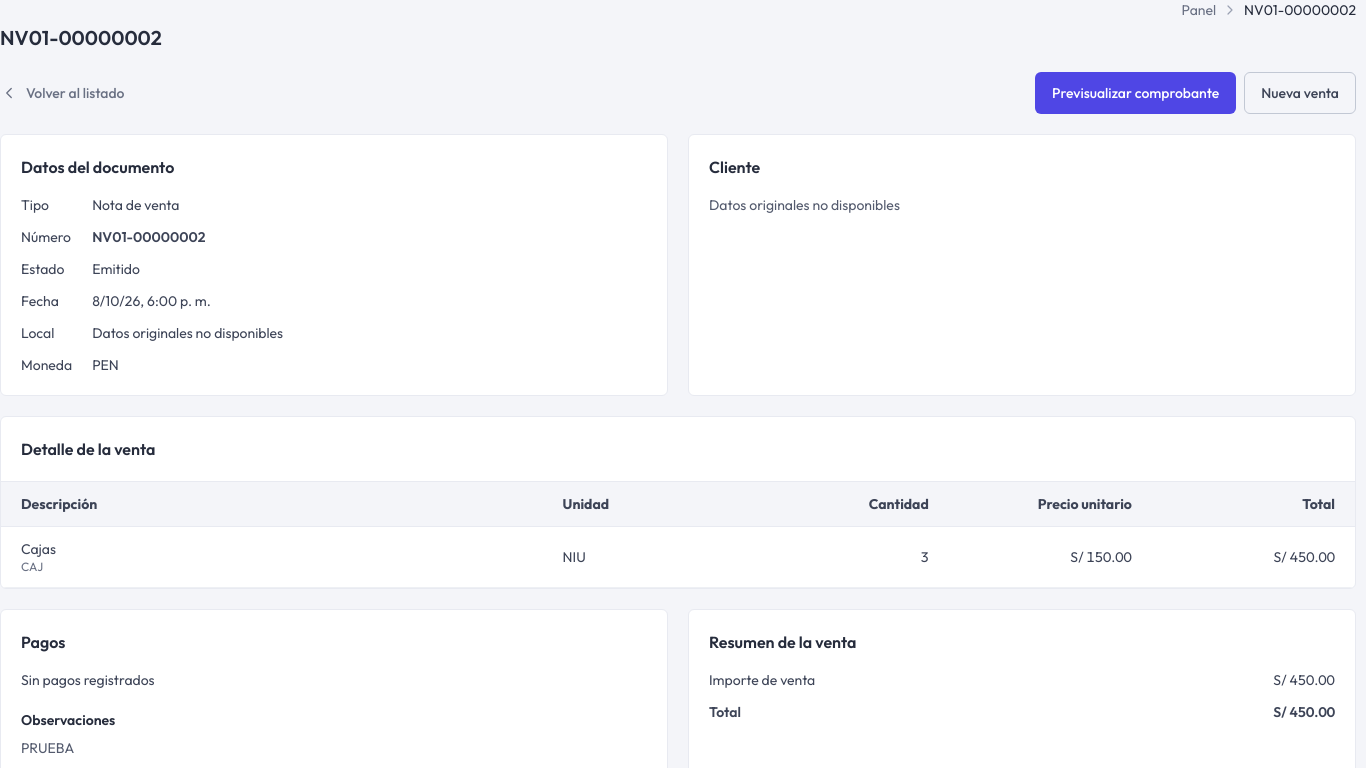
Test: Detalle del documento · presentación interna y fiscal › abre como registro y permite previsualizar y volver sin modificar el documento
Click the button "Previsualizar comprobante".
click(1136, 93)  # box left=1035, top=72, right=1236, bottom=114
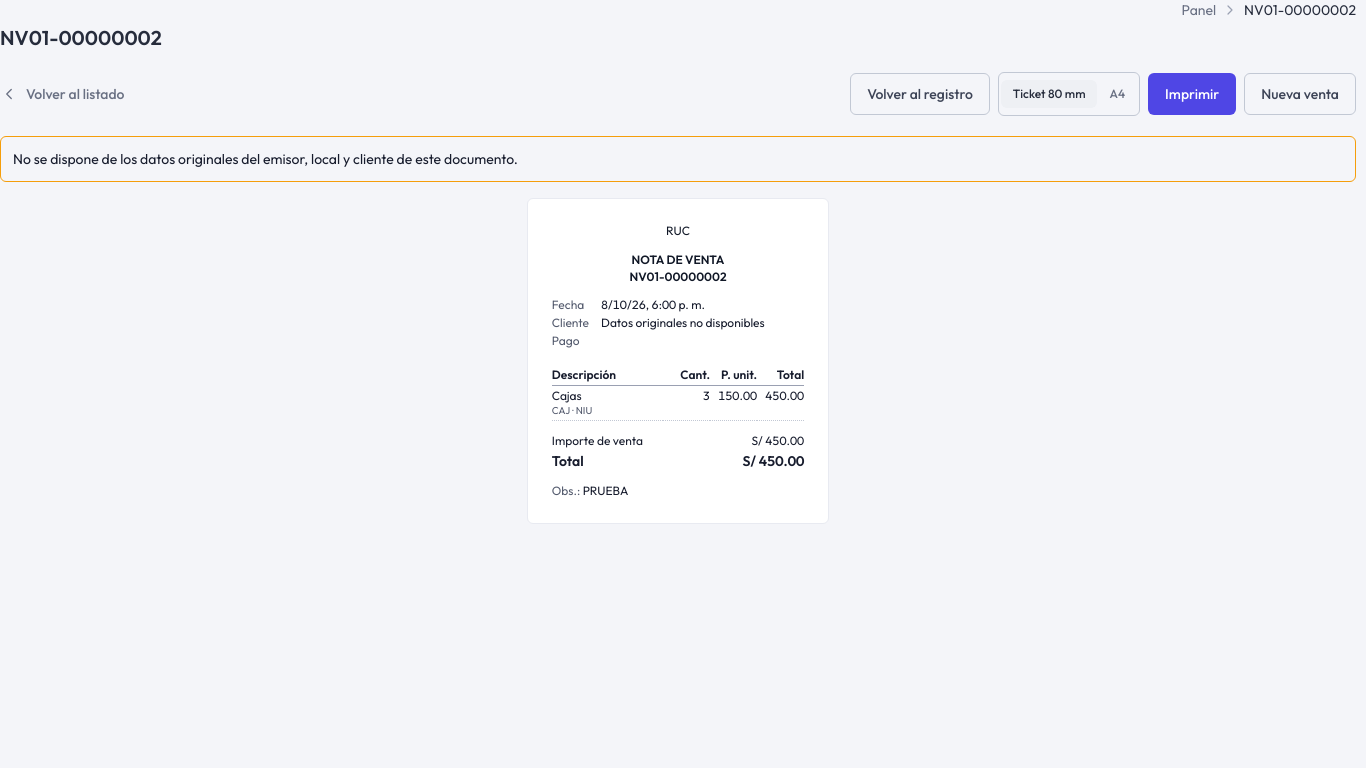
Expected: the element named "Formato de impresión" is shown, left=998, top=72, right=1140, bottom=116
Expected: the button "A4" is shown
Click the button "A4".
click(1117, 94)  # box left=1098, top=80, right=1137, bottom=108
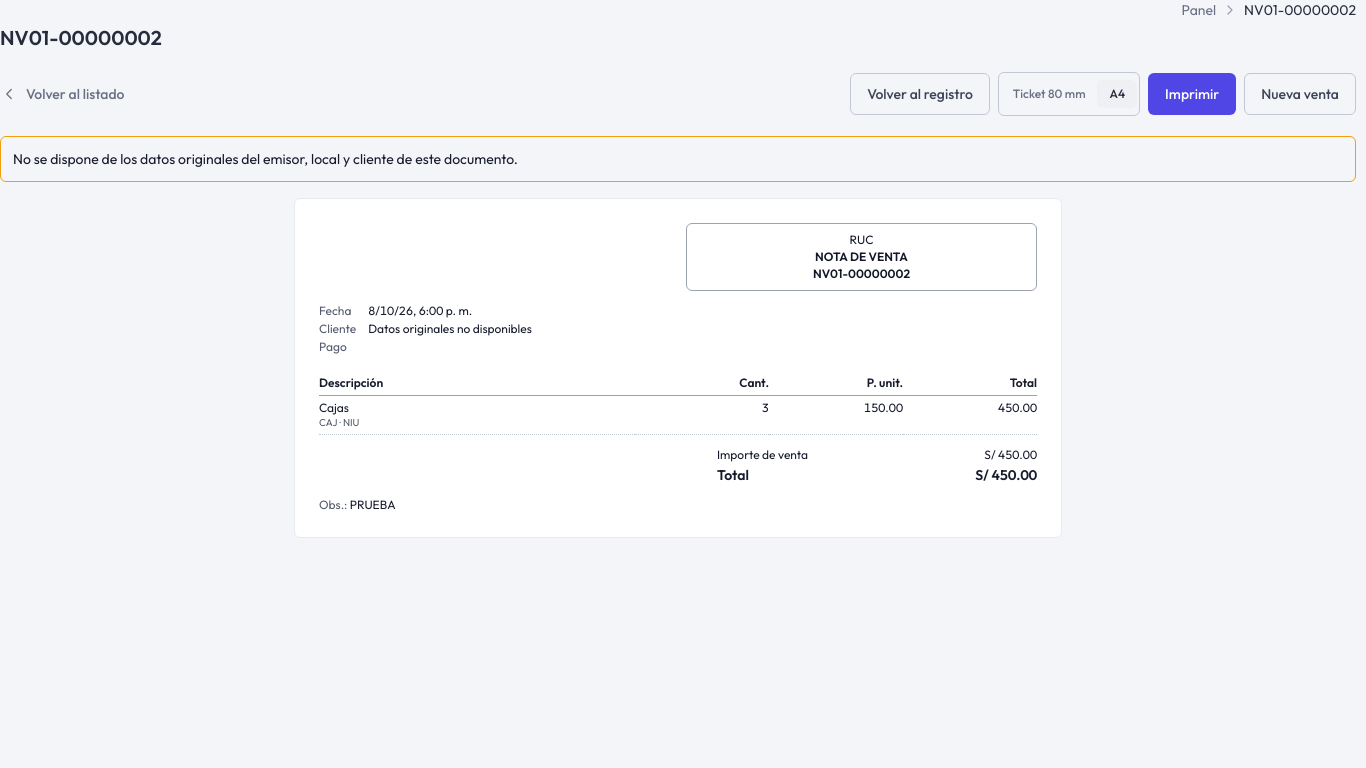
Expected: the button "Volver al registro" is shown
Click the button "Volver al registro".
click(920, 94)  # box left=850, top=73, right=990, bottom=115
(page scrolled)
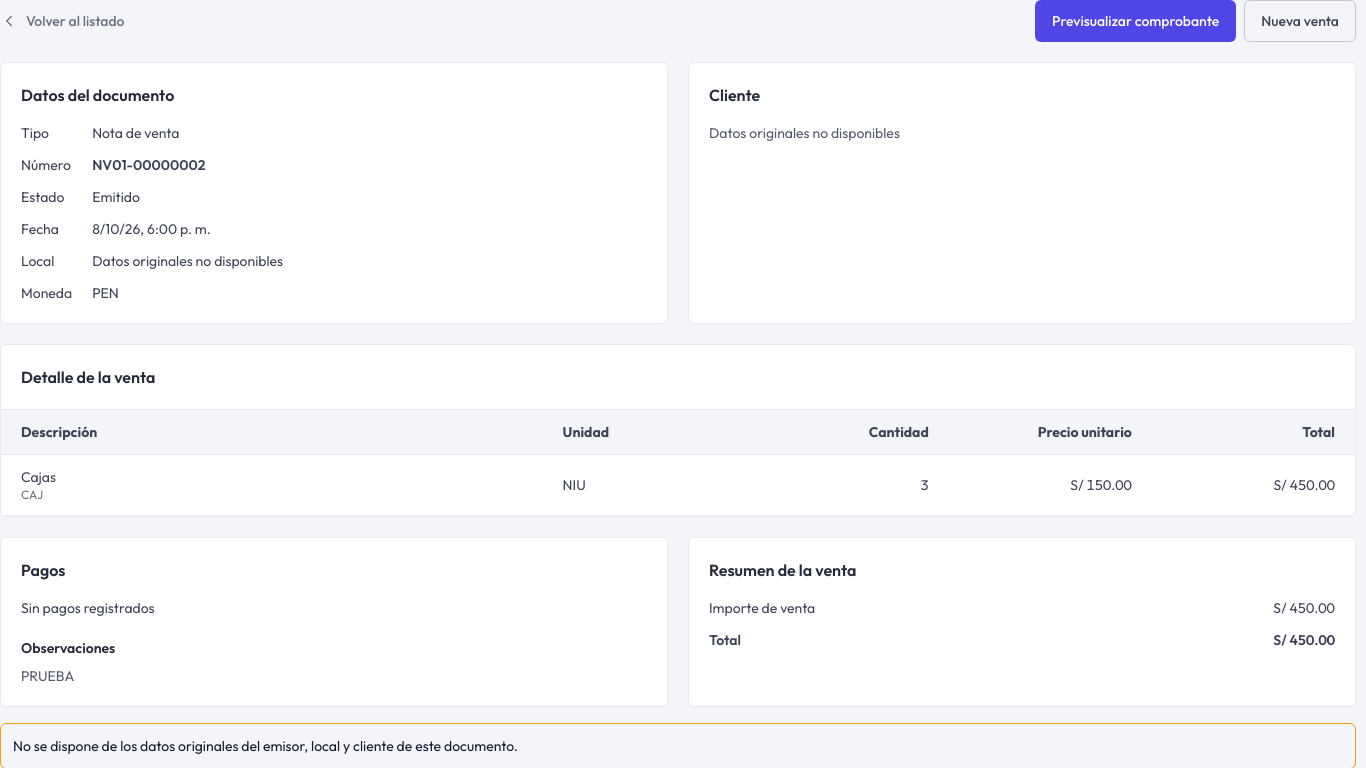
Expected: the element named "Registro de venta" is shown
